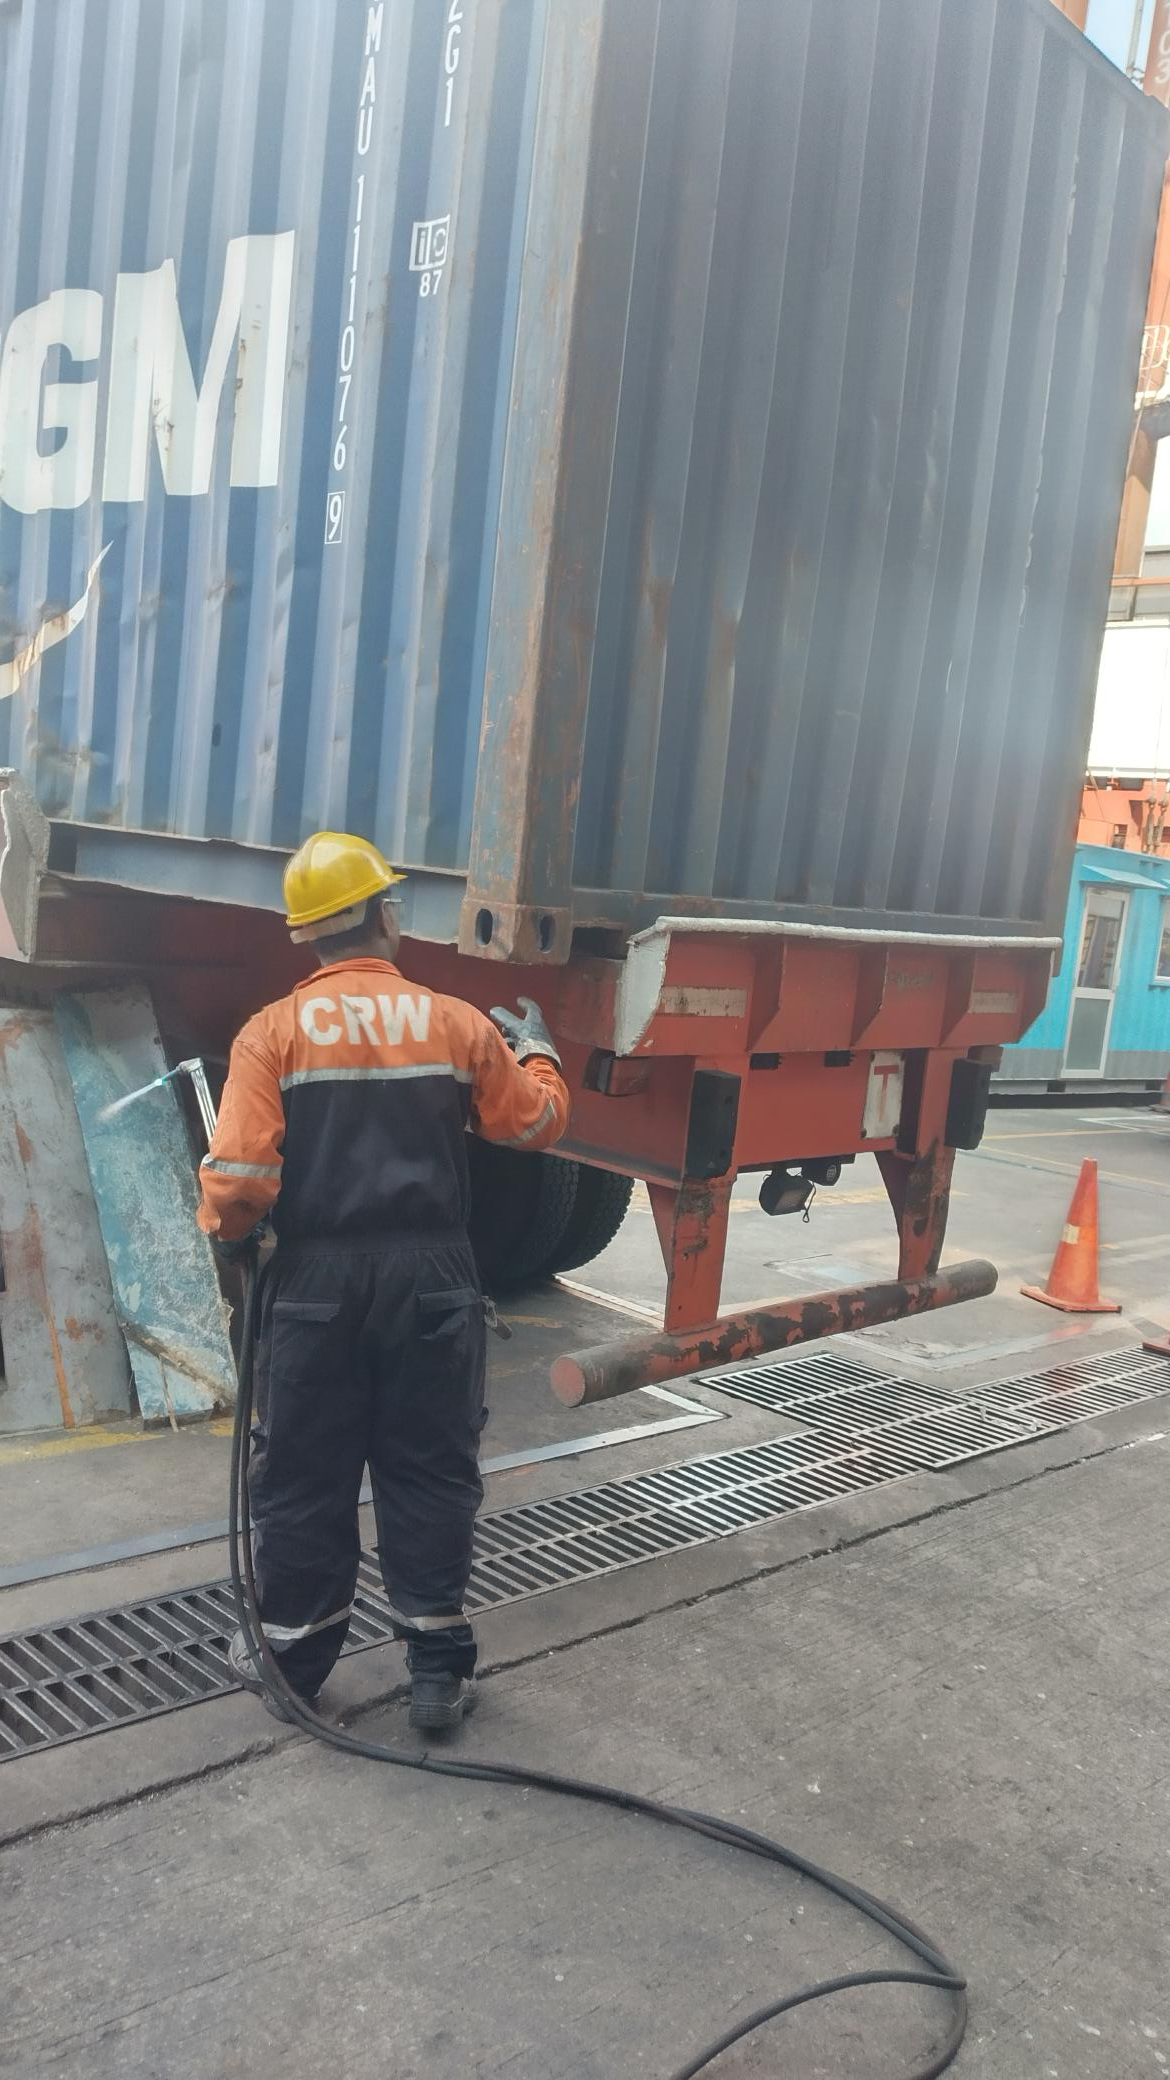moderate: (1, 533, 321, 673)
